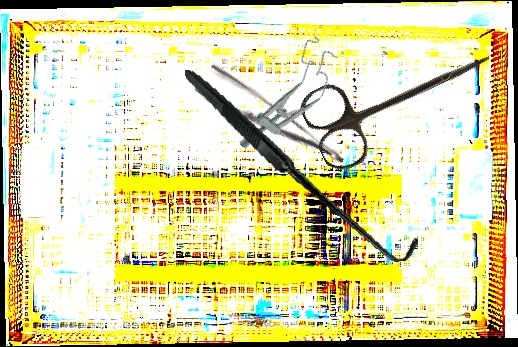Dressing Forceps: (193, 60, 347, 187)
Hook Surgical: (184, 41, 421, 288)
Iris Scissors: (294, 15, 507, 177)
Speculum: (231, 33, 349, 167)
